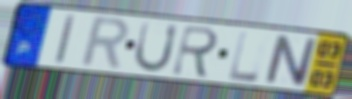I: (53, 13, 78, 67)
L: (227, 30, 262, 84)
N: (263, 32, 319, 89)
R: (77, 15, 131, 73), (169, 23, 222, 80)
U: (131, 20, 181, 74)
